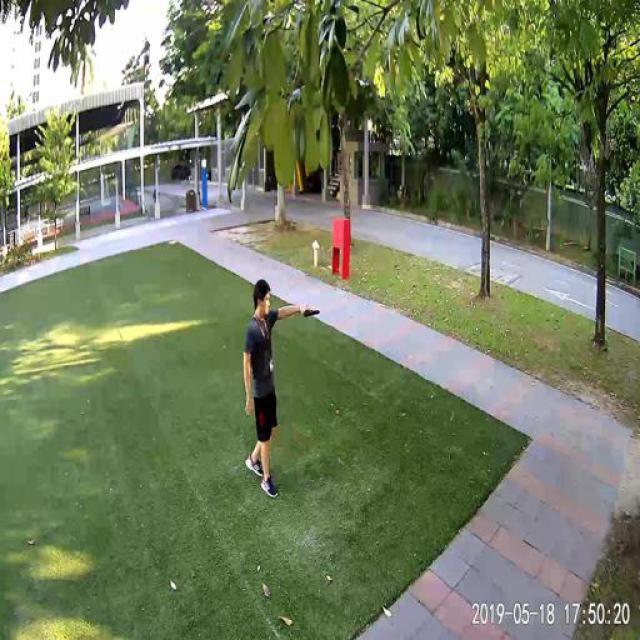weapon: (301, 306, 321, 318)
